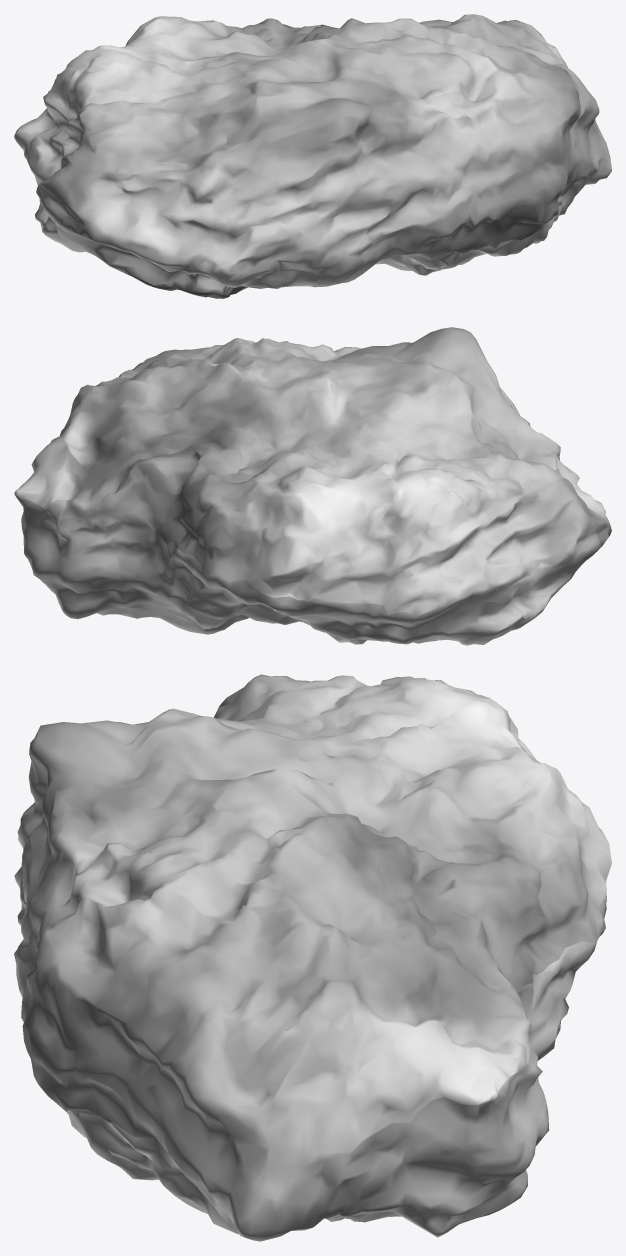
Rendered from Mesh_Rock_A_New.fbx.
3 renders of one model, top to bottom at view 1: azimuth 30°, elevation 25°; view 2: azimuth 150°, elevation 25°; view 3: azimuth 270°, elevation 25°, orthographic. The views are drawn at different scales.
Visible parts, largest first — view 1: SM_Rock_A_New_LOD0; view 2: SM_Rock_A_New_LOD0; view 3: SM_Rock_A_New_LOD0.
Part boxes in pixels (x1=…): SM_Rock_A_New_LOD0: x1=14, y1=14, x2=611, y2=298; SM_Rock_A_New_LOD0: x1=14, y1=327, x2=611, y2=645; SM_Rock_A_New_LOD0: x1=14, y1=674, x2=611, y2=1241.
Size of the model in its own units: 515 by 341 by 240.
1 material, 1 textured.
